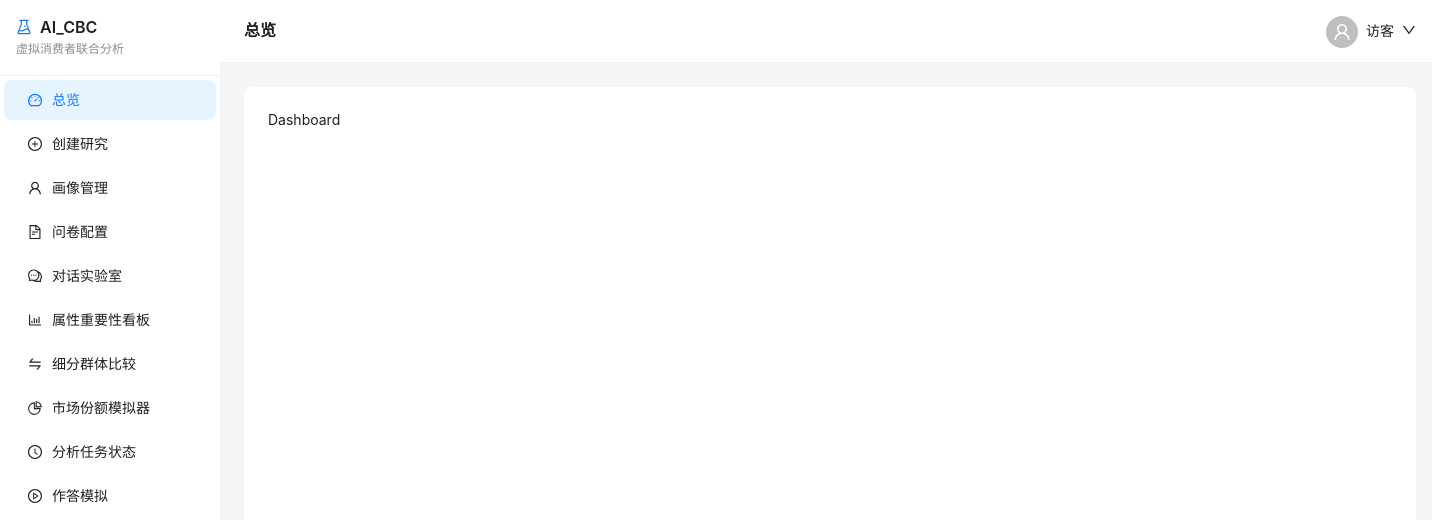
Test case: Layout › navigates when menu item clicked
Click the menu item "创建研究" at (68, 143), box [28,135,108,152]
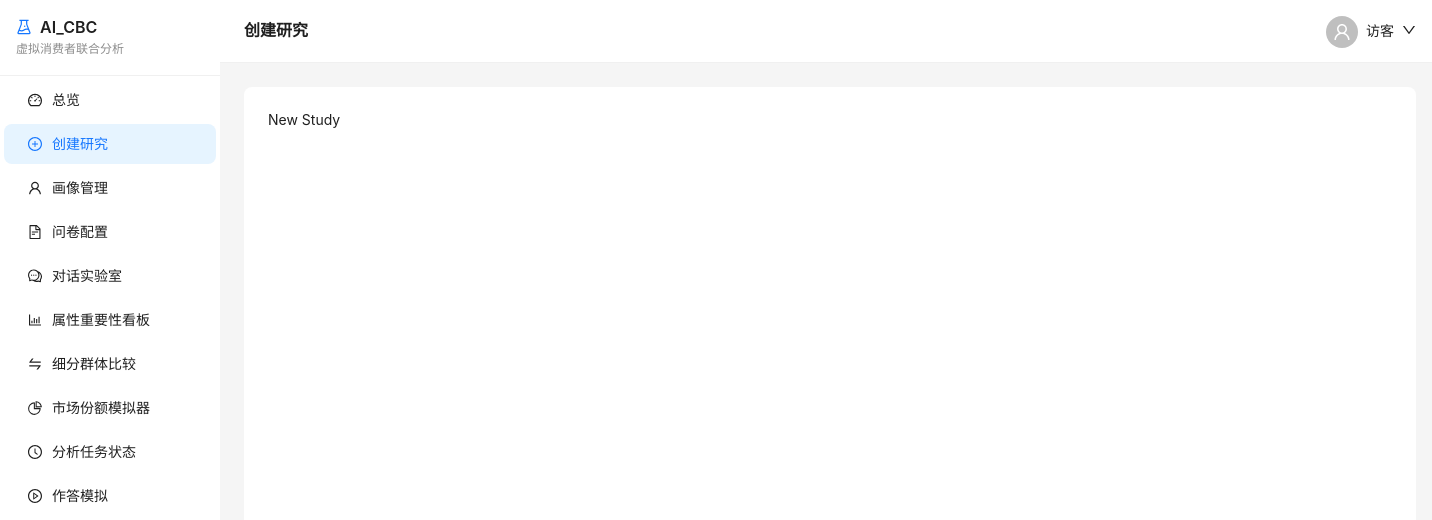
expect the text "New Study" is shown: met, box [268,111,340,128]
